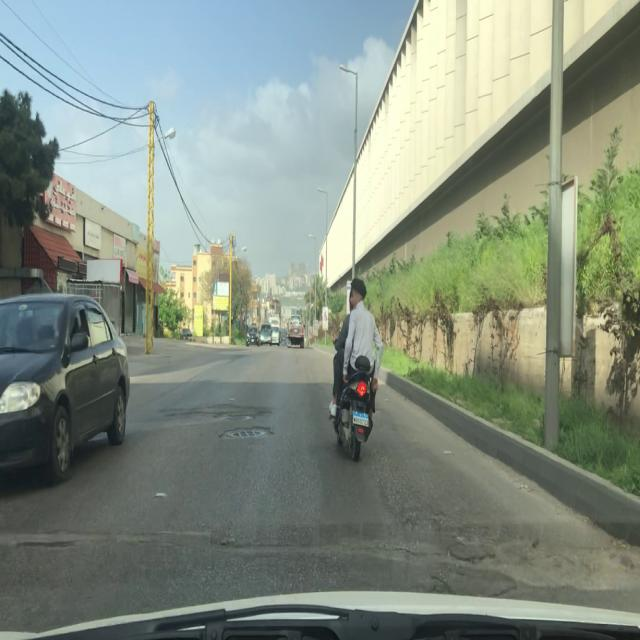Pothole: (445, 535, 639, 596)
